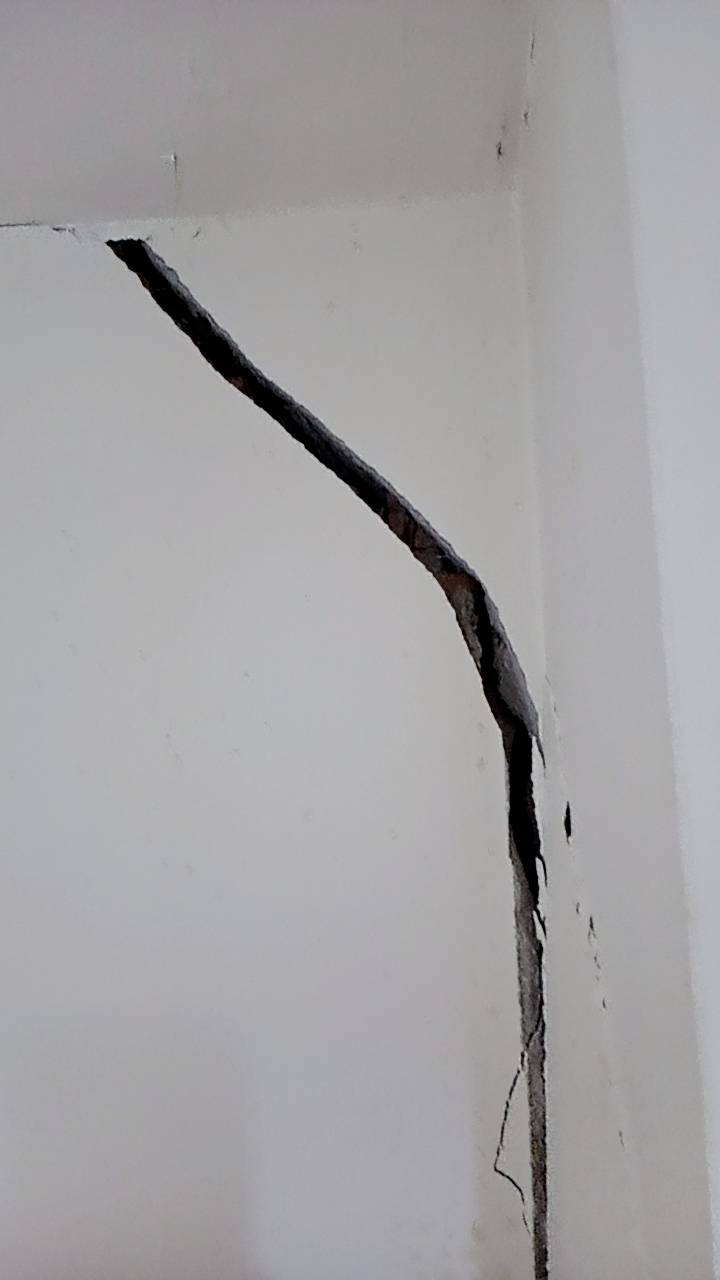Medium: (286, 396, 591, 1116)
